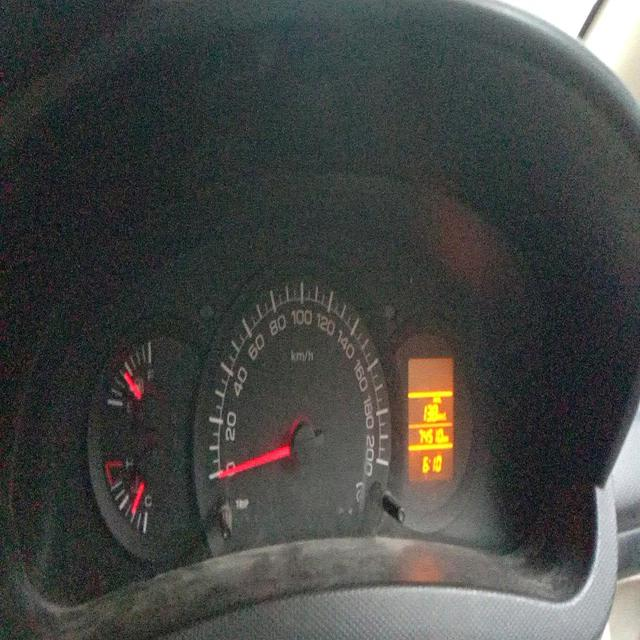odometer: (416, 424, 444, 448)
